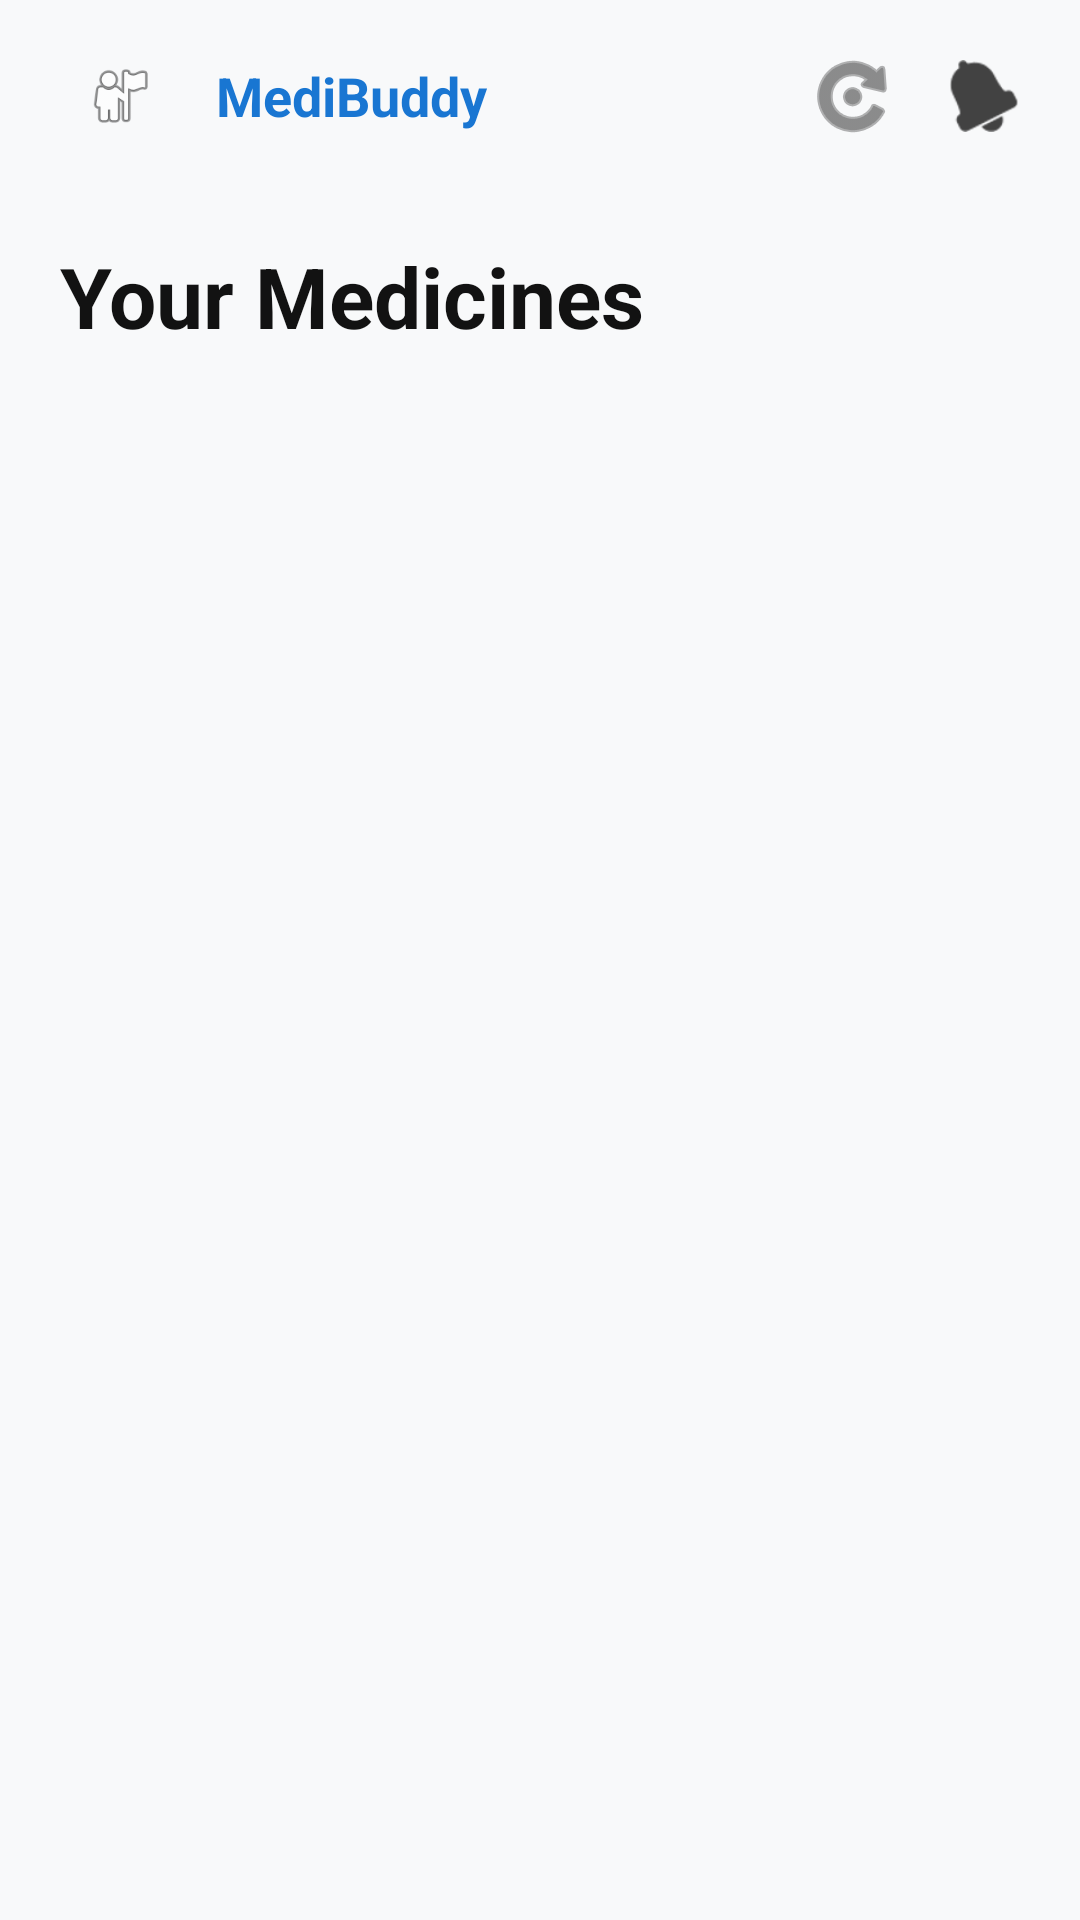

Screen size 1080px×1920px. Icon name, then its box in pixels as (x1, y1, x2, y2):
myplaces: (94, 69, 148, 123)
popup reminder: (950, 60, 1018, 132)
rotate: (817, 61, 887, 132)
